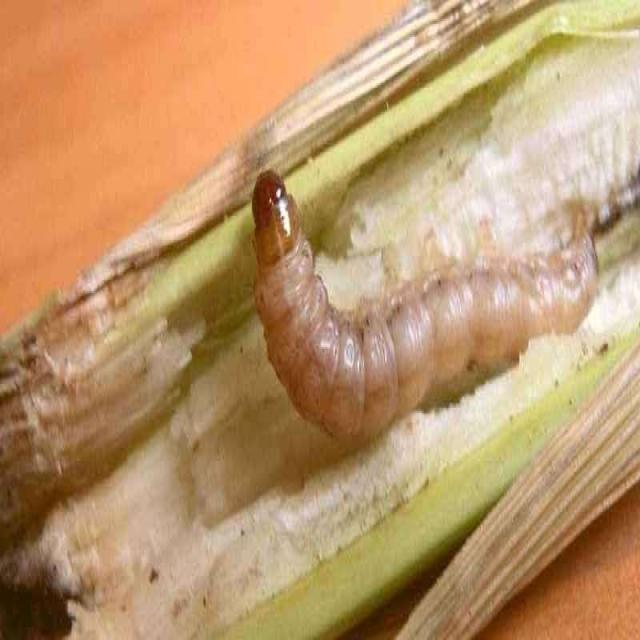cornborer-Larva-: (229, 128, 606, 452)
